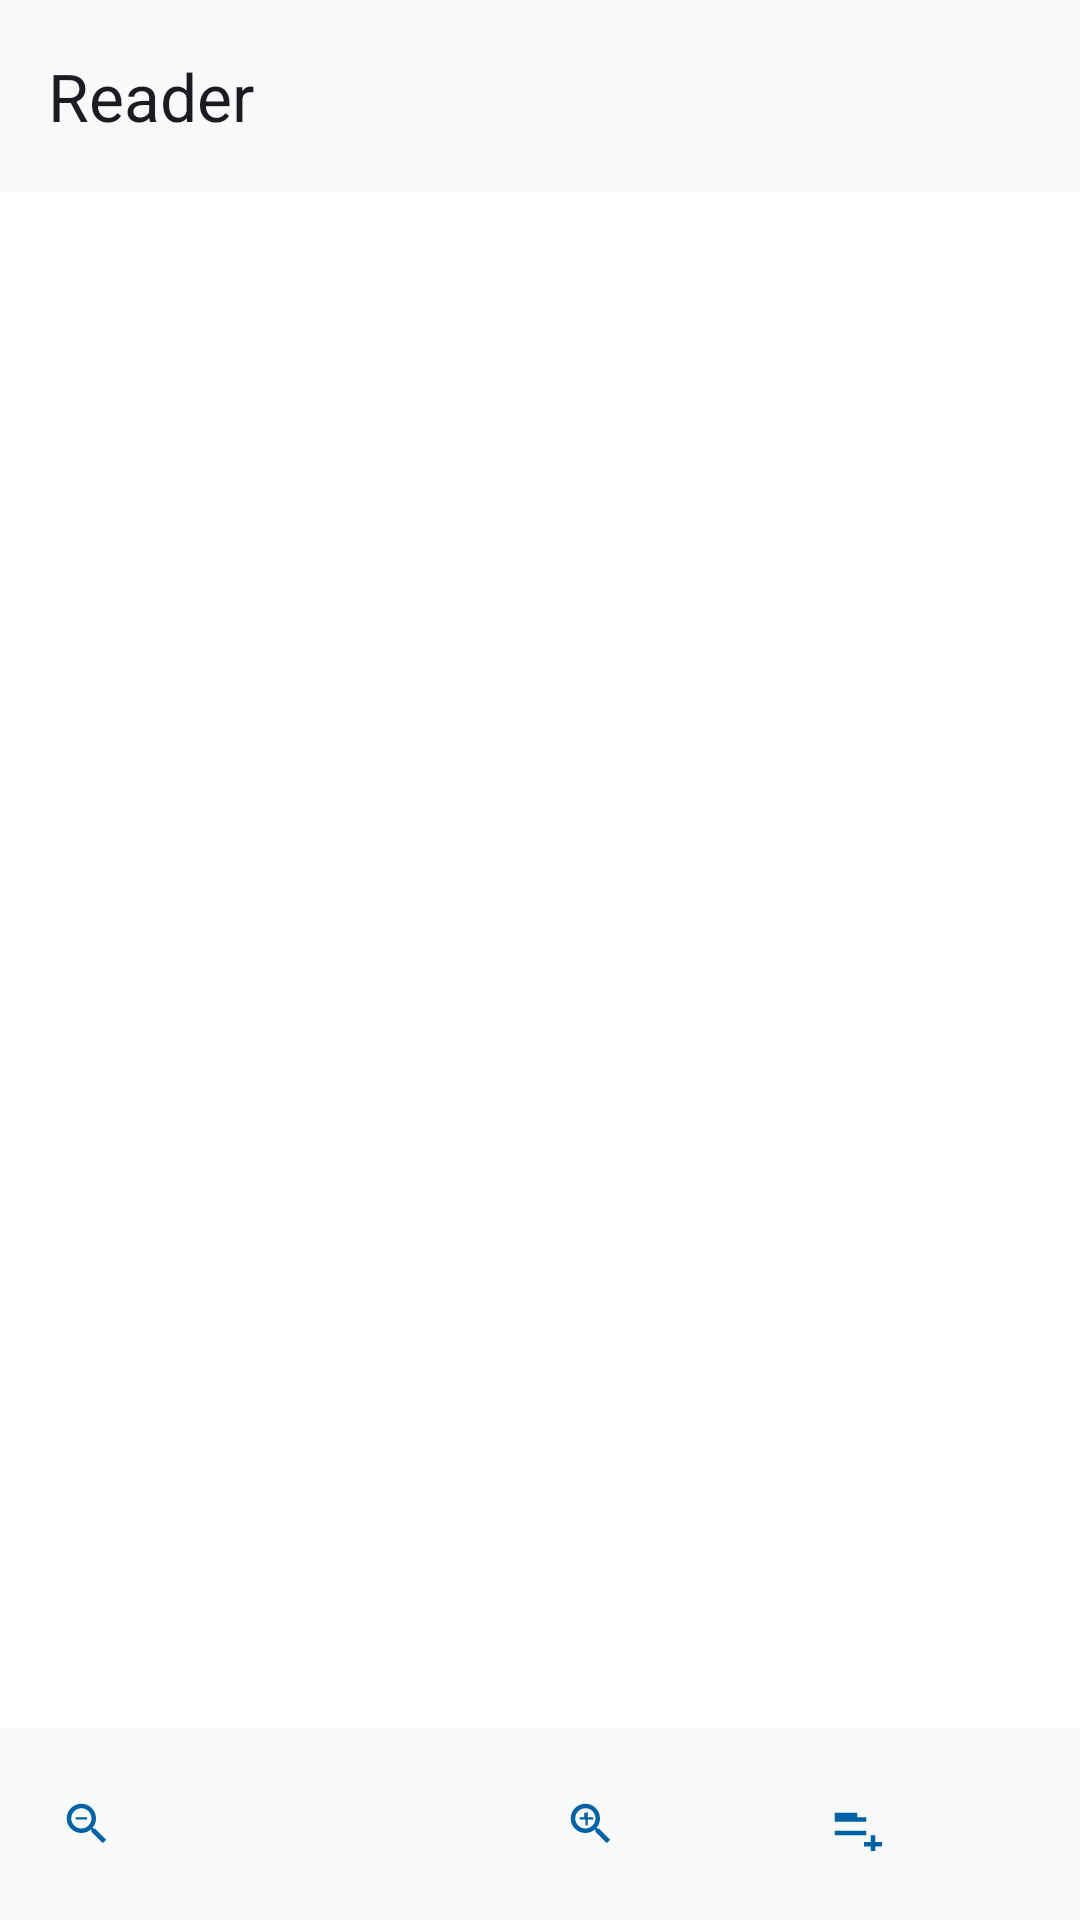

Icons on this 1080 × 1920 Android screen, each with the point to tap as point (x, y):
Zoom in: point (590, 1823)
Zoom out: point (86, 1823)
